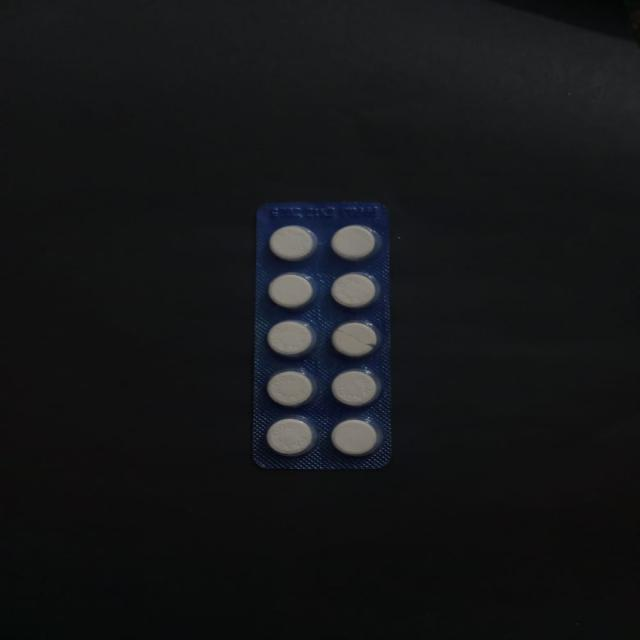defect: (328, 320, 382, 360)
